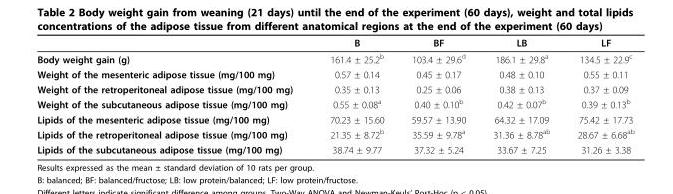table: (36, 36, 633, 155)
table column: (36, 36, 310, 155), (310, 36, 397, 155), (478, 36, 563, 155), (397, 36, 478, 155), (563, 36, 633, 155)
table column header: (36, 36, 633, 50)
table row: (36, 50, 633, 66), (36, 66, 633, 81), (36, 81, 633, 96), (36, 96, 633, 111), (36, 111, 633, 126), (36, 126, 633, 141), (36, 36, 633, 50), (36, 141, 633, 155)
